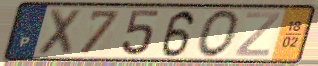5: (121, 9, 162, 57)
6: (160, 8, 198, 58)
7: (77, 9, 122, 57)
O: (195, 9, 243, 60)
X: (34, 7, 86, 58)
Z: (233, 11, 283, 58)
